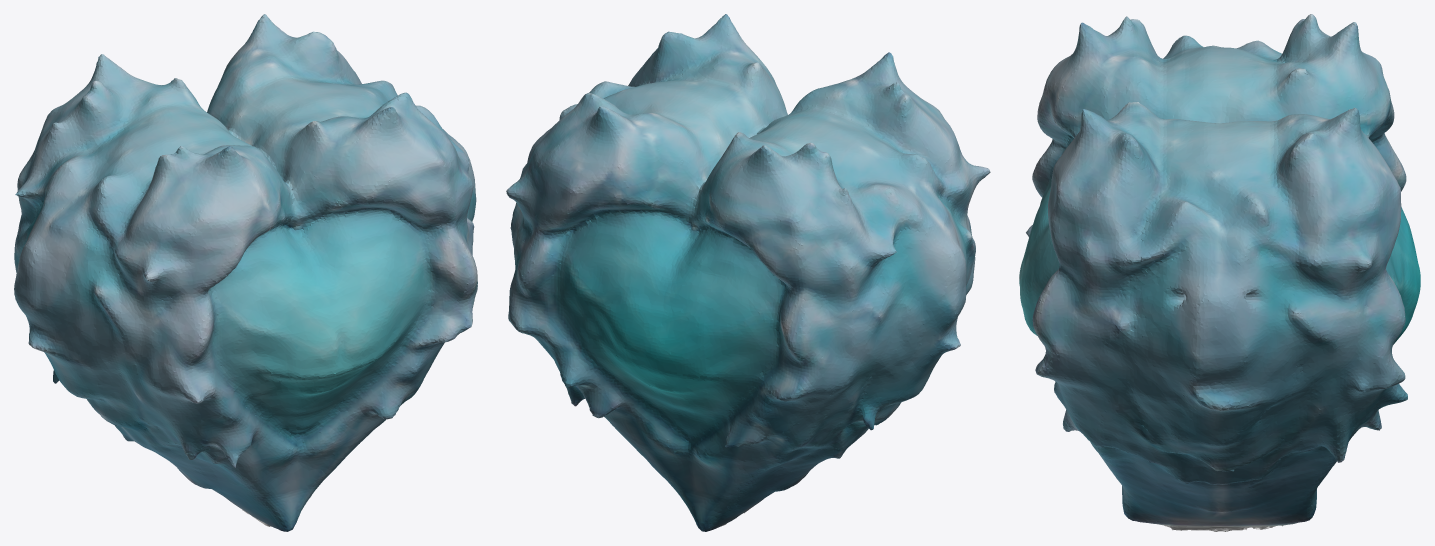
3 views of the same model, side by side, from view 1: azimuth 30°, elevation 25°; view 2: azimuth 150°, elevation 25°; view 3: azimuth 270°, elevation 25° (orthographic). The views are drawn at different scales.
Visible parts, largest first — view 1: mesh_with_colors.obj; view 2: mesh_with_colors.obj; view 3: mesh_with_colors.obj.
Part boxes in pixels (x1=…): mesh_with_colors.obj: x1=14, y1=14, x2=477, y2=531; mesh_with_colors.obj: x1=506, y1=14, x2=990, y2=531; mesh_with_colors.obj: x1=1019, y1=14, x2=1420, y2=531.
Size of the model in its own units: 1.04 by 0.9752 by 0.7627.
